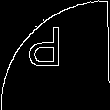P_S: (37, 30, 73, 80)
